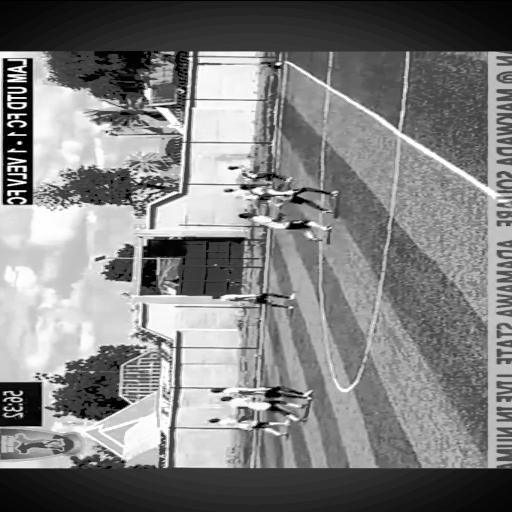ball: (274, 60, 284, 65)
team1: (244, 184, 346, 214), (209, 286, 299, 312), (212, 158, 296, 184), (200, 382, 318, 400)
team2: (228, 210, 334, 244), (200, 414, 298, 437), (218, 394, 314, 416), (218, 186, 263, 204)
